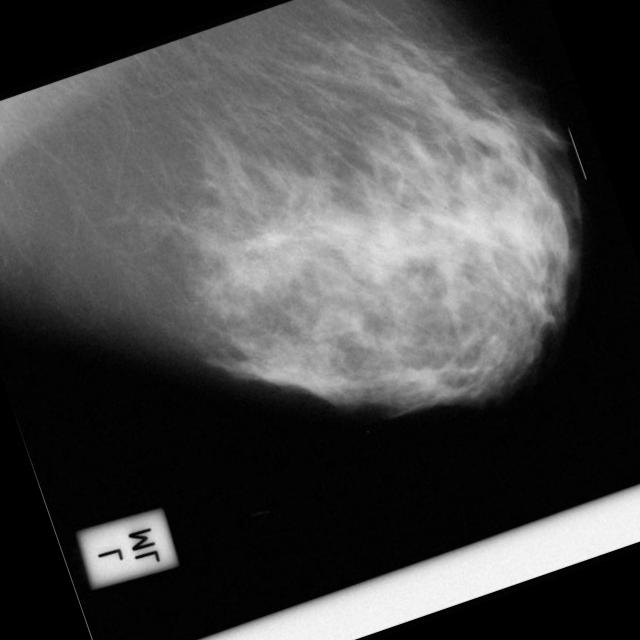SPIC: (230, 195, 308, 272)
